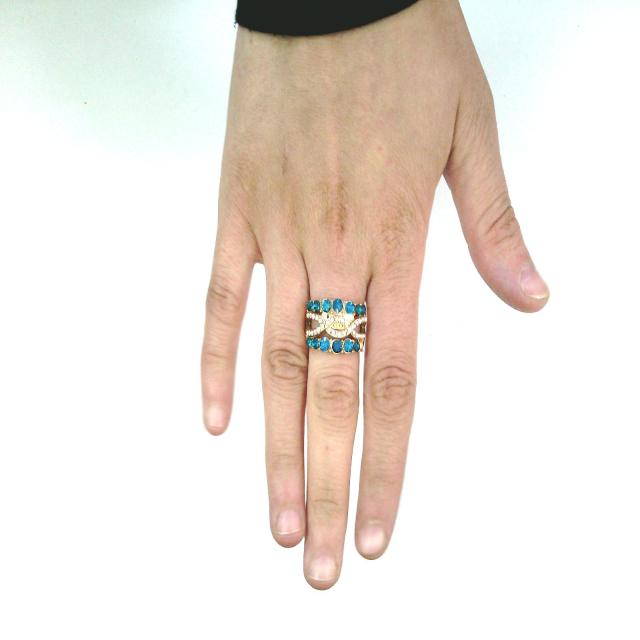hand: (203, 35, 557, 593)
